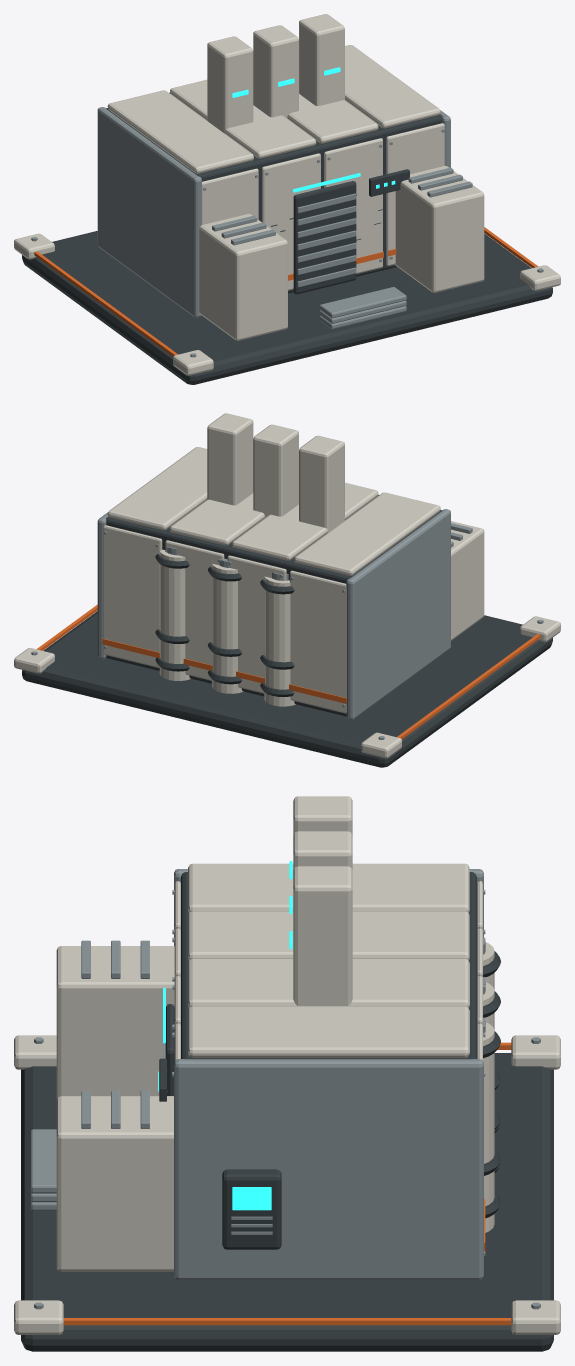
The model's file is SM_PowerSystemsFactory_Body.001.fbx.
3 views of the same model, one above another, from view 1: azimuth 30°, elevation 25°; view 2: azimuth 150°, elevation 25°; view 3: azimuth 270°, elevation 25° (orthographic). The views are drawn at different scales.
Parts seen in each view (by area): view 1: SM_PowerSystemsFactory_Body.001; view 2: SM_PowerSystemsFactory_Body.001; view 3: SM_PowerSystemsFactory_Body.001.
Part boxes in pixels (bbox=[...]): SM_PowerSystemsFactory_Body.001: bbox=[14, 14, 560, 384]; SM_PowerSystemsFactory_Body.001: bbox=[14, 413, 560, 767]; SM_PowerSystemsFactory_Body.001: bbox=[14, 796, 560, 1351].
Size of the model in its own units: 572 by 462 by 350.
